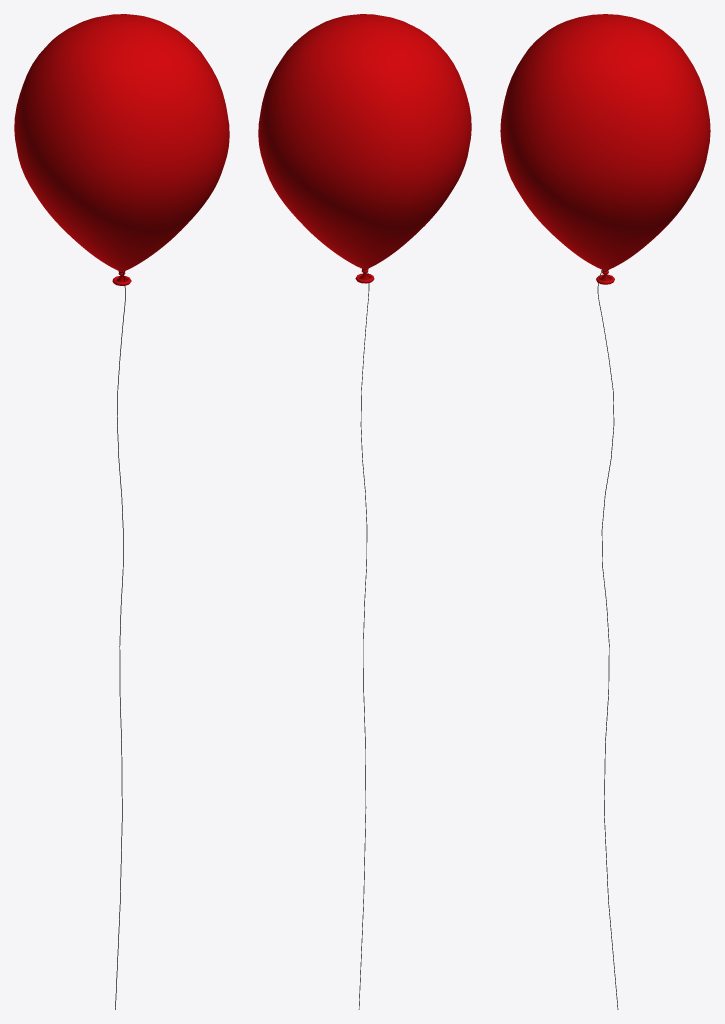
File: baloon.obj
3 views of the same model, side by side, from view 1: azimuth 30°, elevation 25°; view 2: azimuth 150°, elevation 25°; view 3: azimuth 270°, elevation 25° (orthographic).
Parts seen in each view (by area): view 1: Cube, NurbsPath; view 2: Cube, NurbsPath; view 3: Cube, NurbsPath.
Boxes of the visible parts, x1,y1,x2,y2 form: Cube: (14, 14, 229, 271); NurbsPath: (115, 271, 125, 1009); Cube: (258, 14, 471, 269); NurbsPath: (358, 268, 369, 1009); Cube: (500, 14, 710, 270); NurbsPath: (597, 270, 618, 1009).
Bounding box in the file's own units: 3.22 × 16.66 × 3.22.
